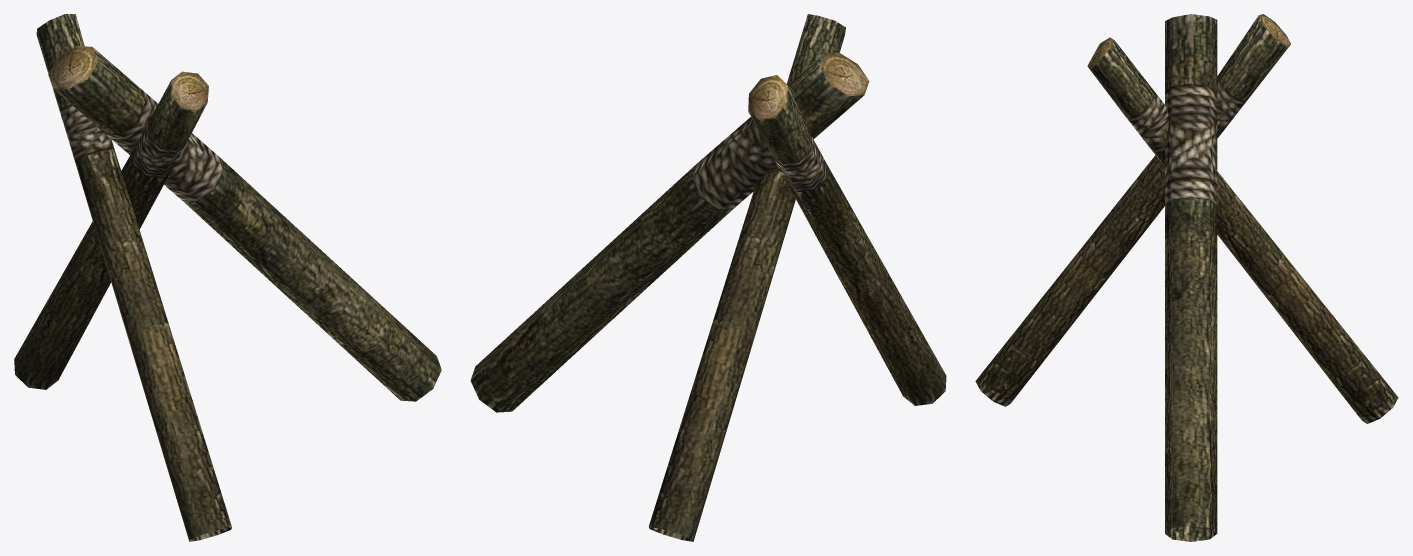
The model's file is thing_barricade_02.fbx.
The picture shows the model from 3 angles, left to right: view 1: azimuth 30°, elevation 25°; view 2: azimuth 150°, elevation 25°; view 3: azimuth 270°, elevation 25°; orthographic projection. The views are drawn at different scales.
Visible parts, largest first — view 1: thing_wood barricade_02; view 2: thing_wood barricade_02; view 3: thing_wood barricade_02.
Boxes of the visible parts, x1,y1,x2,y2 form: thing_wood barricade_02: [14, 14, 441, 541]; thing_wood barricade_02: [470, 14, 946, 541]; thing_wood barricade_02: [975, 14, 1398, 541].
Bounding box in the file's own units: 1.26 × 1.36 × 1.32.
